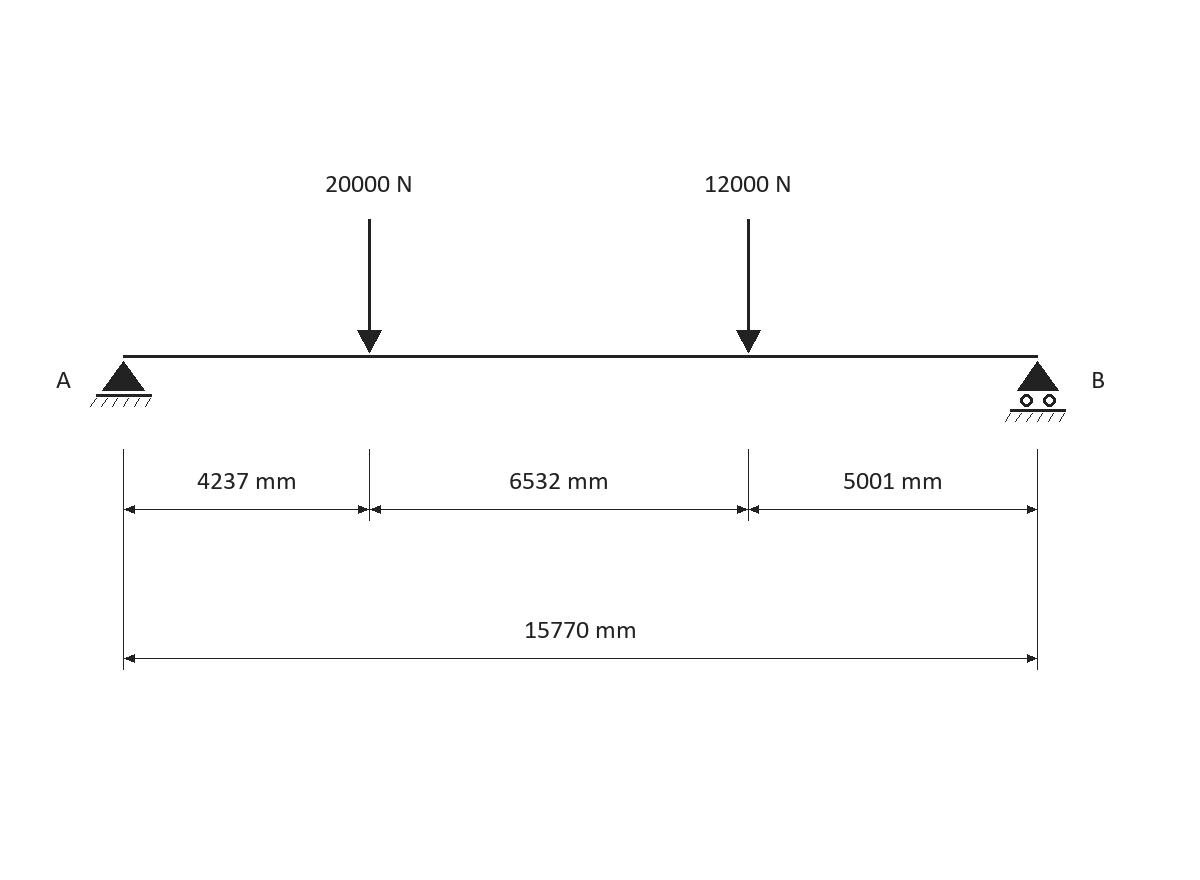pin_support: (90, 361, 152, 407)
point_load: (357, 219, 382, 353), (736, 219, 761, 353)
roller_support: (1005, 361, 1066, 422)
